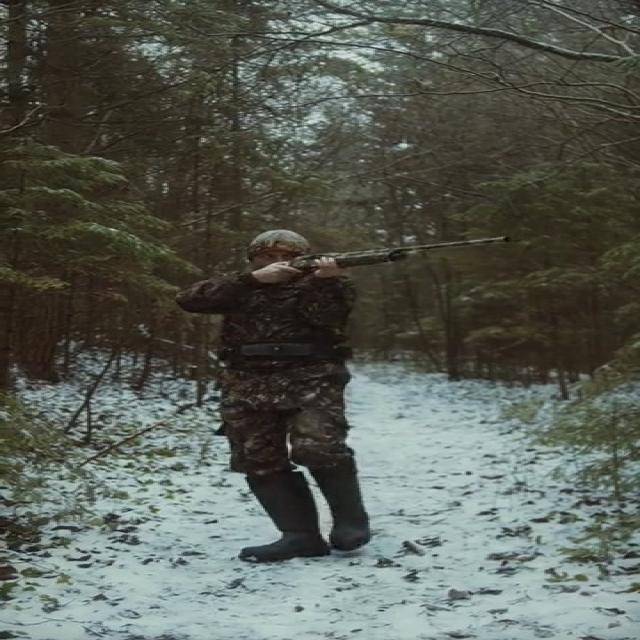Gun_Holder: (255, 239, 509, 274)
Person: (174, 227, 388, 558)
